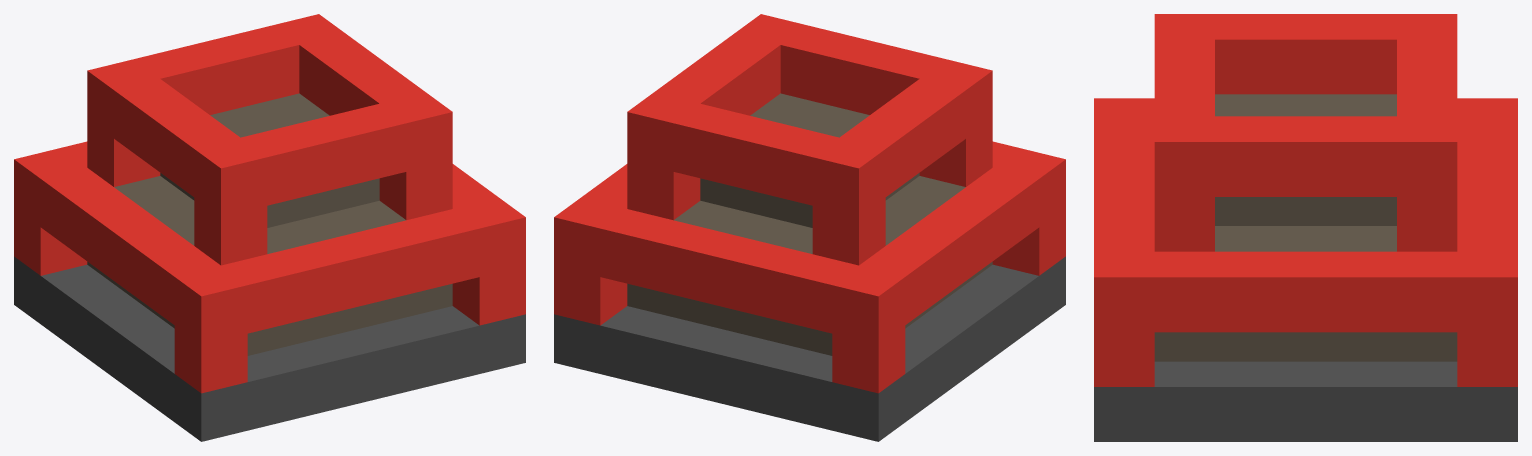
The model's file is WeaponTargetting#2.obj.
3 views of the same model, side by side, from view 1: azimuth 30°, elevation 25°; view 2: azimuth 150°, elevation 25°; view 3: azimuth 270°, elevation 25° (orthographic). The views are drawn at different scales.
Bounding box in the file's own units: 0.7 × 0.6 × 0.7.
Materials: 1 (1 with a texture image).
